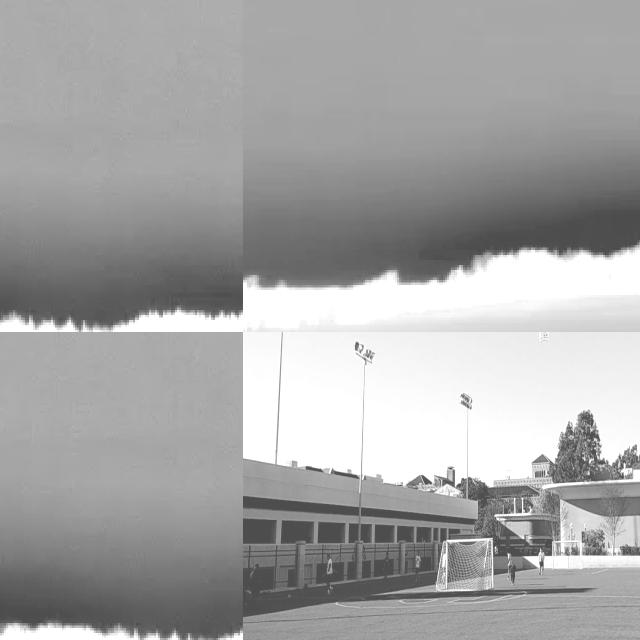drone: (529, 332, 555, 340)
